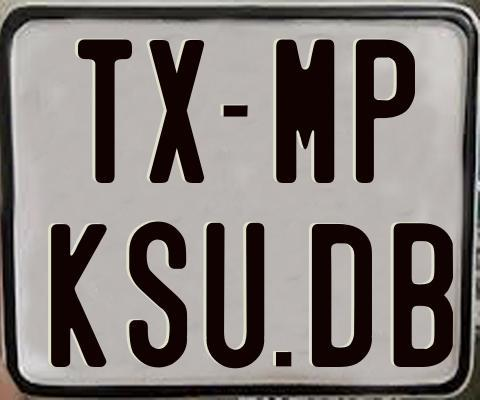B: (393, 222, 454, 371)
D: (310, 221, 372, 370)
K: (51, 221, 108, 364)
M: (276, 39, 338, 185)
P: (355, 36, 420, 183)
S: (126, 221, 184, 374)
T: (76, 39, 136, 188)
U: (205, 222, 268, 368)
X: (146, 40, 205, 188)
